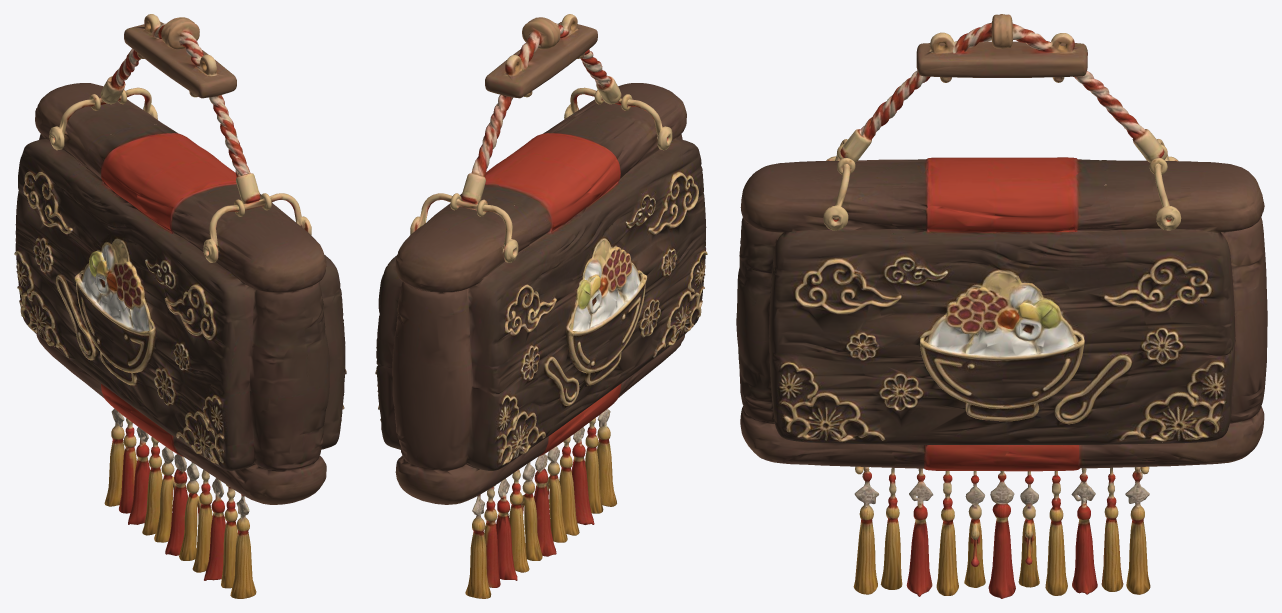
The model's file is KR_사물_s1_sign_main_old.glb.
The picture shows the model from 3 angles, left to right: view 1: azimuth 30°, elevation 25°; view 2: azimuth 150°, elevation 25°; view 3: azimuth 270°, elevation 25°; orthographic projection. The views are drawn at different scales.
Parts seen in each view (by area): view 1: tripo_node_8c769718-7d46-4d40-ba1e-31ec2ad08780; view 2: tripo_node_8c769718-7d46-4d40-ba1e-31ec2ad08780; view 3: tripo_node_8c769718-7d46-4d40-ba1e-31ec2ad08780.
Part boxes in pixels (x1,y1,x2,y2): tripo_node_8c769718-7d46-4d40-ba1e-31ec2ad08780: [14, 14, 346, 598]; tripo_node_8c769718-7d46-4d40-ba1e-31ec2ad08780: [375, 14, 707, 598]; tripo_node_8c769718-7d46-4d40-ba1e-31ec2ad08780: [736, 14, 1267, 598].
Bounding box in the file's own units: 0.2762 × 0.9999 × 0.8359.
Materials: 1 (1 with a texture image).
